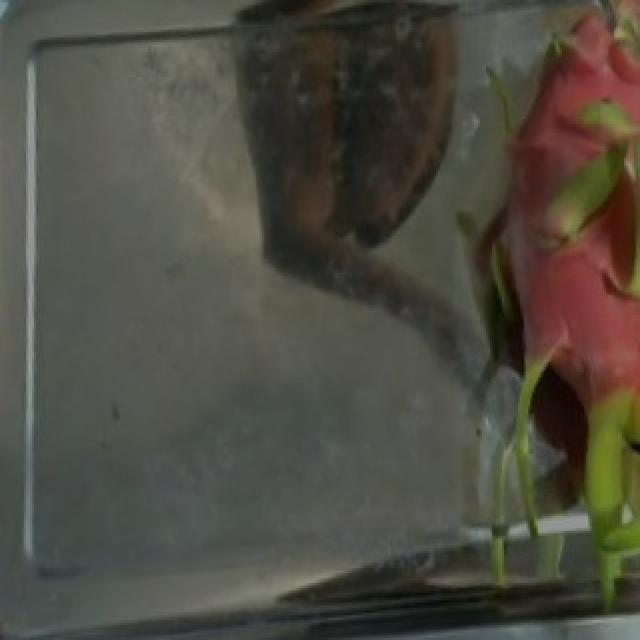fruit: (402, 169, 640, 620)
